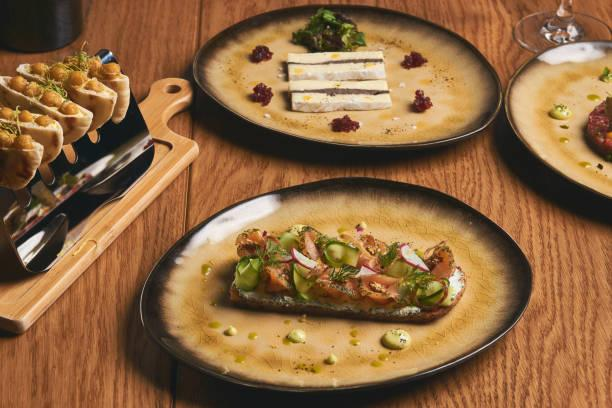Braised Crucian Carp: (136, 175, 535, 408), (189, 0, 503, 164)
